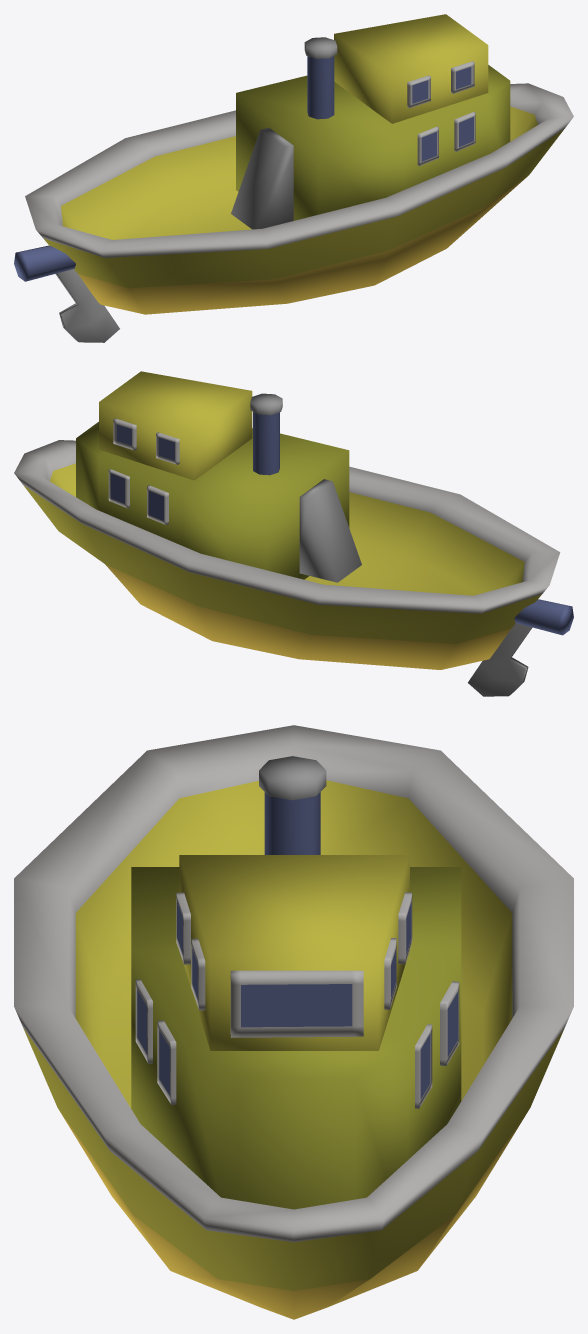
The model's file is Boat_3.fbx.
The picture shows the model from 3 angles, top to bottom: view 1: azimuth 30°, elevation 25°; view 2: azimuth 150°, elevation 25°; view 3: azimuth 270°, elevation 25°; orthographic projection. The views are drawn at different scales.
Visible parts, largest first — view 1: Boat_3; view 2: Boat_3; view 3: Boat_3.
Part boxes in pixels (box(x1,y1,x2,y2)): Boat_3: box(14, 14, 573, 342); Boat_3: box(14, 371, 573, 696); Boat_3: box(14, 725, 573, 1319).
Size of the model in its own units: 560 by 240 by 251.
1 material, 1 textured.
